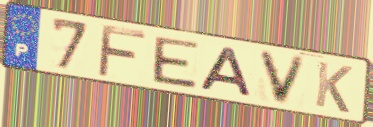7: (49, 16, 90, 72)
A: (197, 44, 254, 99)
E: (152, 34, 201, 91)
F: (95, 22, 149, 80)
K: (313, 59, 355, 116)
V: (255, 48, 309, 107)
